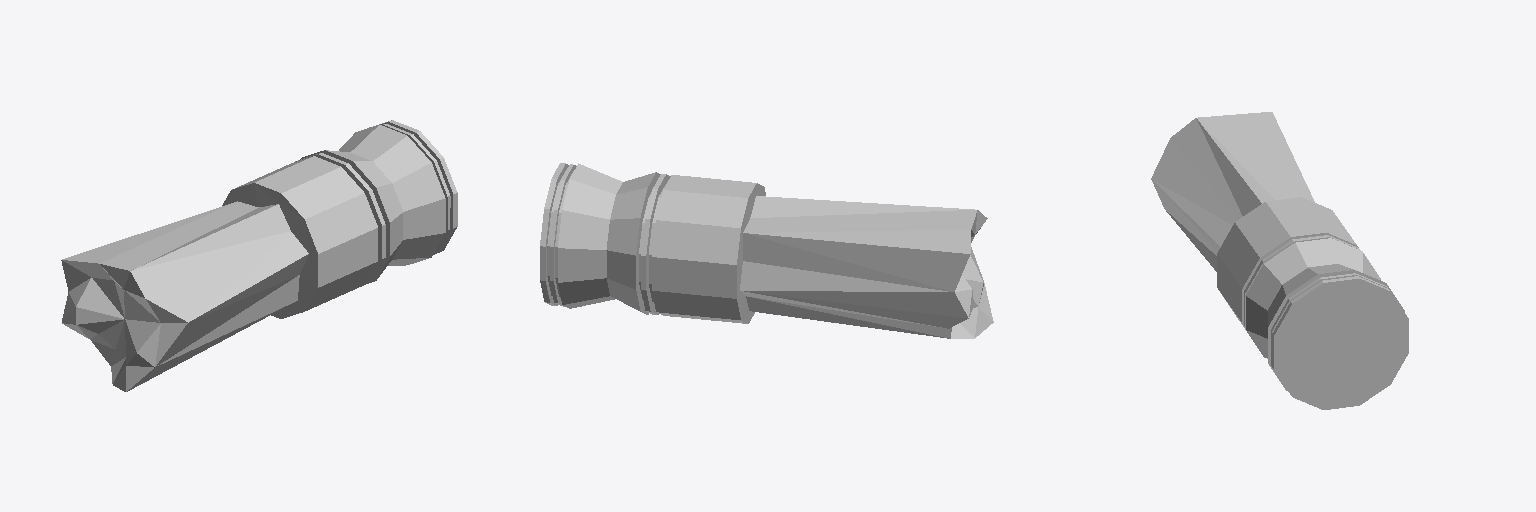
File: piliersol3.obj
3 renders of one model, left to right at view 1: azimuth 30°, elevation 25°; view 2: azimuth 150°, elevation 25°; view 3: azimuth 270°, elevation 25°, orthographic.
Size of the model in its own units: 0.9142 by 0.2851 by 0.5139.